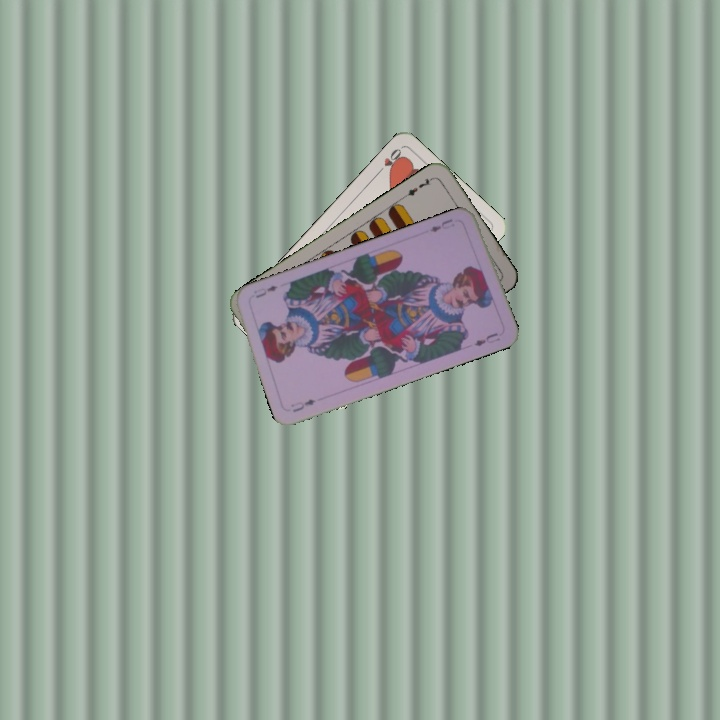E7: (400, 173, 436, 200)
EU: (425, 215, 457, 235), (287, 395, 318, 415)
HO: (372, 144, 405, 177)
